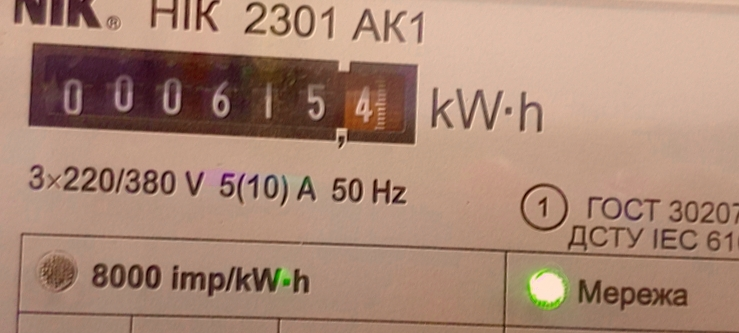0: (156, 72, 184, 117), (56, 73, 85, 116), (109, 70, 135, 111)
1: (259, 77, 275, 120)
4: (351, 81, 373, 123)
5: (301, 78, 327, 122)
6: (206, 76, 232, 118)
screen: (10, 22, 432, 166)
